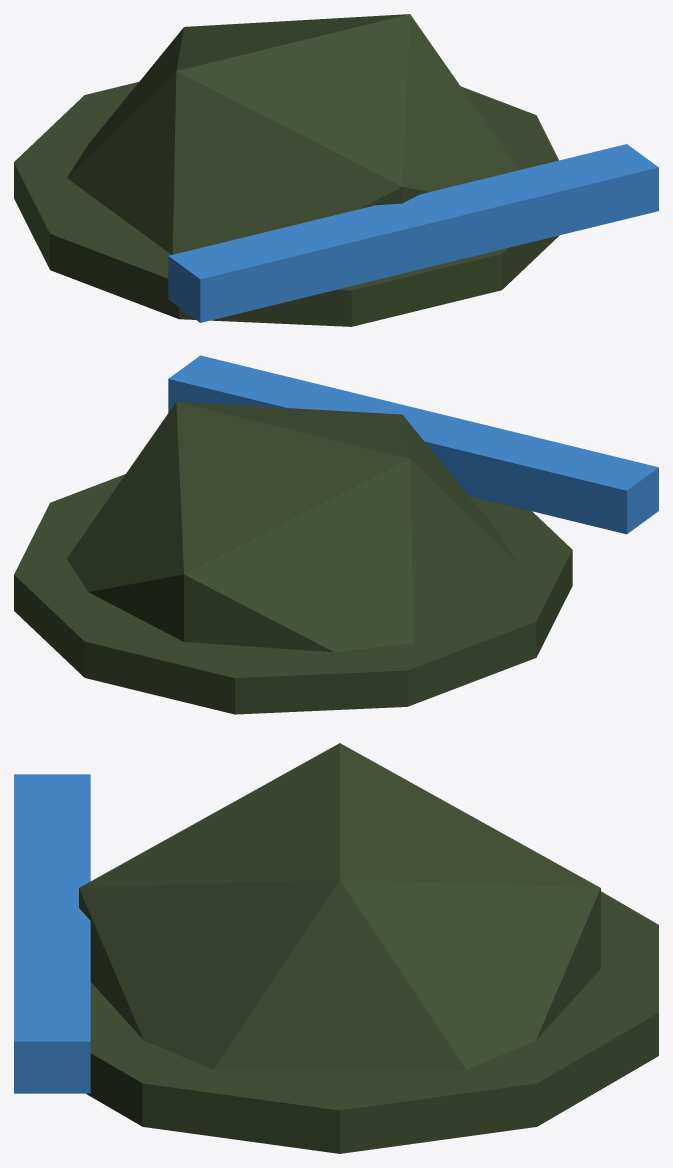
Rendered from helmet_lv2.glb.
The picture shows the model from 3 angles, top to bottom: view 1: azimuth 30°, elevation 25°; view 2: azimuth 150°, elevation 25°; view 3: azimuth 270°, elevation 25°; orthographic projection. The views are drawn at different scales.
Parts seen in each view (by area): view 1: model; view 2: model; view 3: model.
Part boxes in pixels (x1,y1,x2,y2): model: [14, 14, 658, 326]; model: [14, 355, 658, 714]; model: [14, 743, 658, 1153].
Bounding box in the file's own units: 0.35 × 0.1157 × 0.3364.
